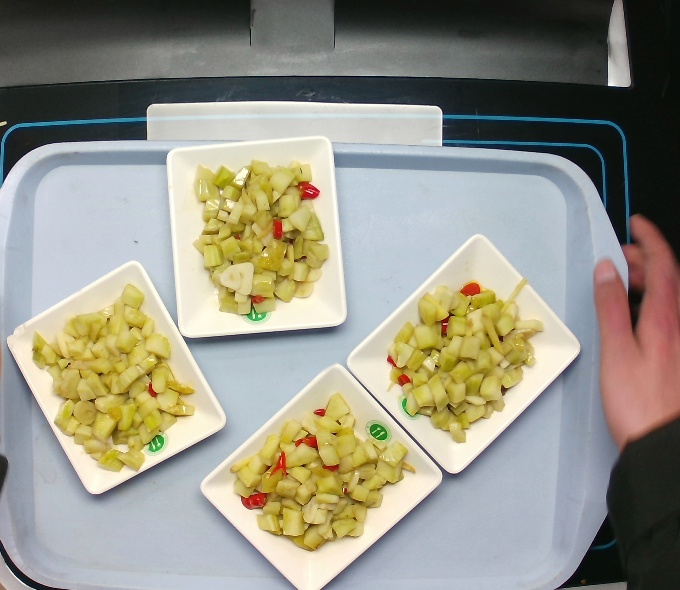wcq-YanHuaCaiGeng: (31, 290, 196, 473), (228, 397, 417, 553), (386, 280, 544, 444), (196, 160, 329, 322)
